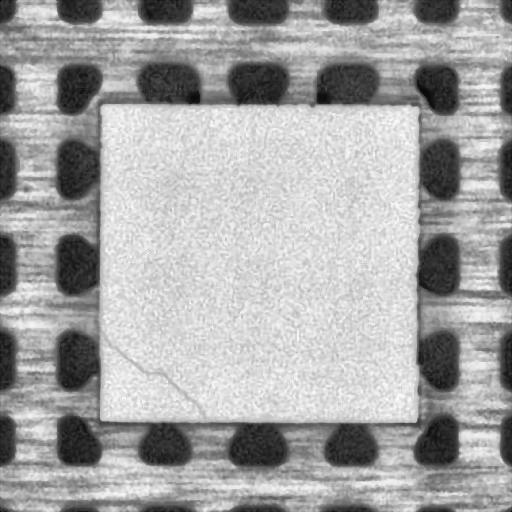DIE_CRACK: (99, 328, 204, 416)
